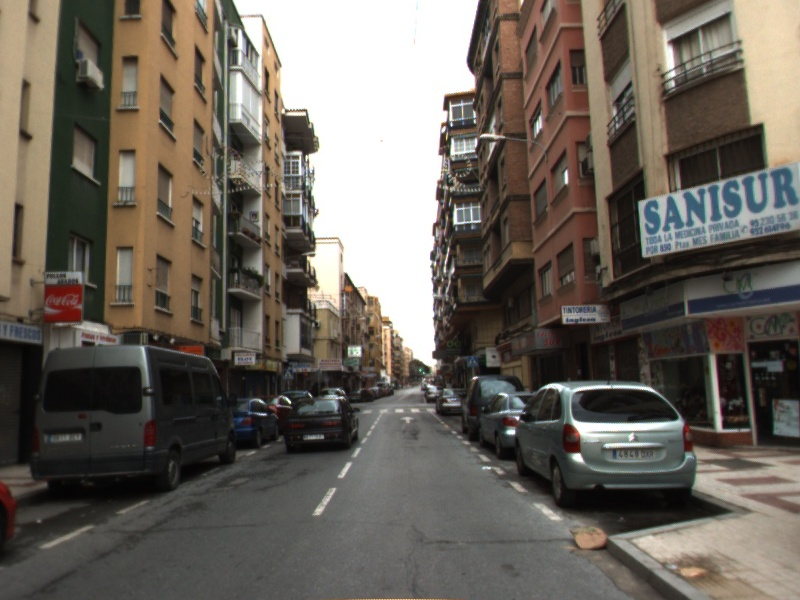STRAIGHT: (398, 414, 417, 425)
